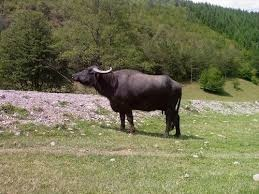buffalo: (71, 65, 181, 138)
